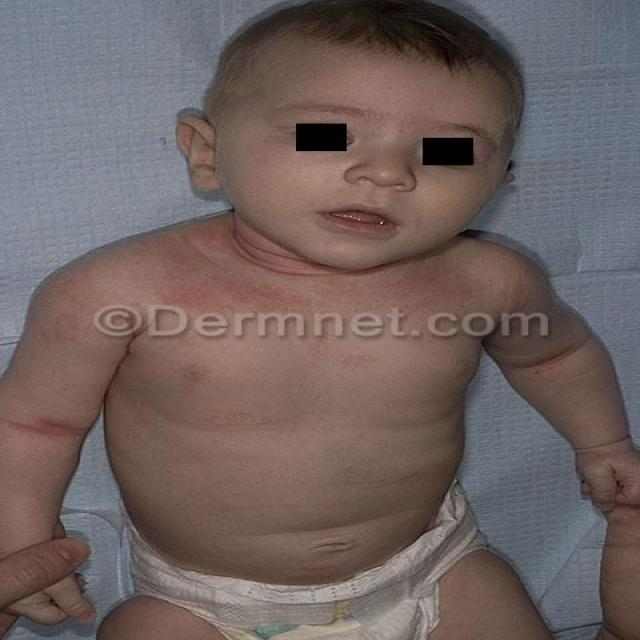Eczema: (134, 245, 477, 323)
